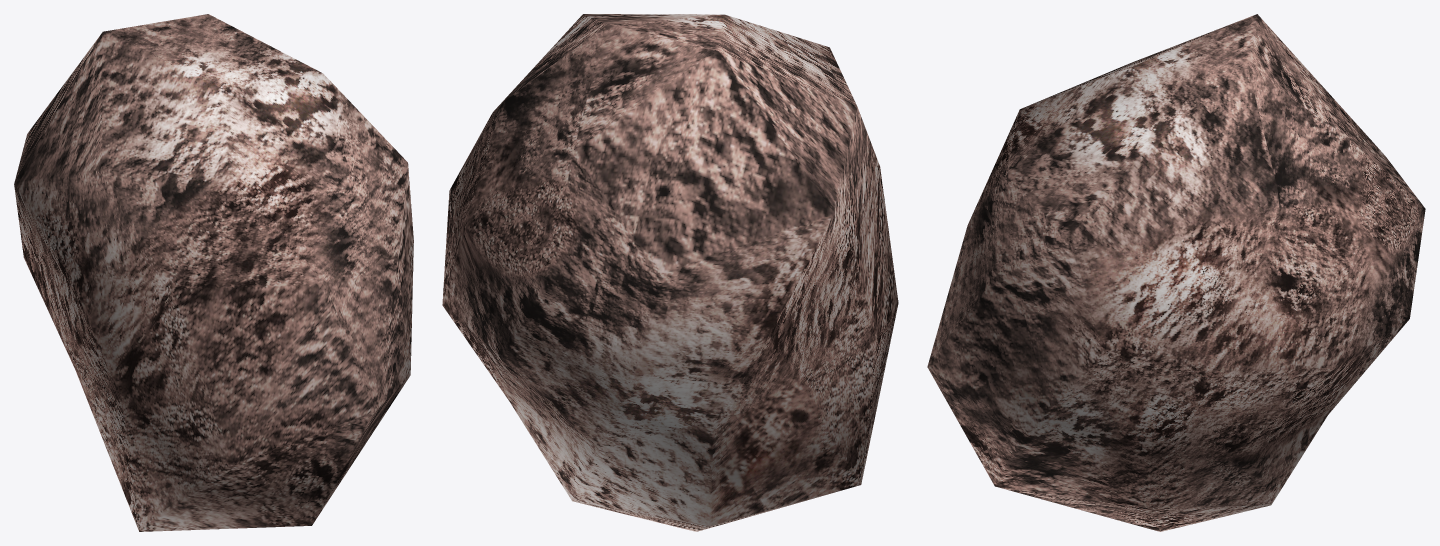
File: asteroid.gltf
3 renders of one model, left to right at view 1: azimuth 30°, elevation 25°; view 2: azimuth 150°, elevation 25°; view 3: azimuth 270°, elevation 25°, orthographic. The views are drawn at different scales.
Parts seen in each view (by area): view 1: Icosphere; view 2: Icosphere; view 3: Icosphere.
Boxes of the visible parts, <box> form: Icosphere: <box>14,14,413,531</box>; Icosphere: <box>442,14,898,531</box>; Icosphere: <box>927,14,1425,531</box>.
Size of the model in its own units: 2.24 by 3.03 by 2.82.
Materials: 1 (1 with a texture image).
